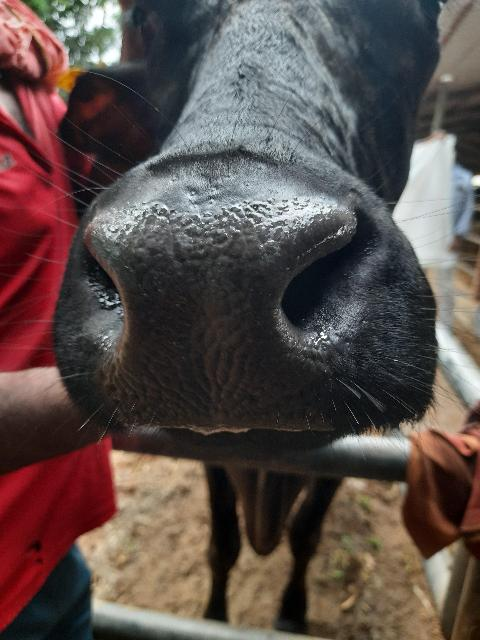Muzzle: (126, 223, 268, 425)
